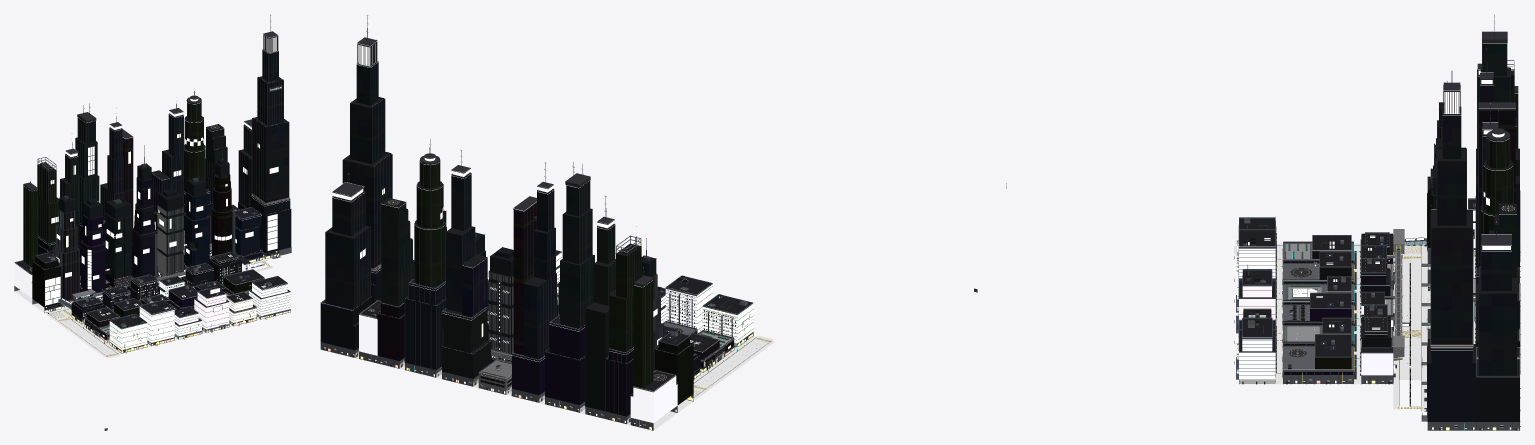
The model's file is world-high-corpo.glb.
The picture shows the model from 3 angles, left to right: view 1: azimuth 30°, elevation 25°; view 2: azimuth 150°, elevation 25°; view 3: azimuth 270°, elevation 25°; orthographic projection. The views are drawn at different scales.
Parts seen in each view (by area): view 1: corpo_corporate, corpo_trim, corpo_facade, corpo_roof, corpo_trim_detail, corpo_billboard, corpo_crown_glass, corpo_castconcrete, corpo_board_frame, corpo_glow, corpo_asphalt, corpo_sidewalk (+6 smaller); view 2: corpo_corporate, corpo_trim, corpo_trim_detail, corpo_facade, corpo_roof, corpo_castconcrete, corpo_glow, corpo_sidewalk, corpo_crown_glass, corpo_asphalt, corpo_glass_dark_detail; view 3: corpo_corporate, corpo_trim, corpo_roof, corpo_facade, corpo_asphalt, corpo_trim_detail, corpo_concrete, corpo_glow, corpo_sidewalk, corpo_castconcrete, corpo_glass_dark_detail, corpo_steel (+2 smaller).
Boxes of the visible parts, <box> form: corpo_corporate: <box>23,49,291,339</box>; corpo_trim: <box>14,31,291,353</box>; corpo_facade: <box>14,263,290,350</box>; corpo_roof: <box>16,49,290,328</box>; corpo_trim_detail: <box>14,37,291,356</box>; corpo_billboard: <box>45,137,278,352</box>; corpo_crown_glass: <box>59,158,229,219</box>; corpo_castconcrete: <box>72,205,263,333</box>; corpo_board_frame: <box>45,133,286,352</box>; corpo_glow: <box>24,34,289,332</box>; corpo_asphalt: <box>49,309,119,357</box>; corpo_sidewalk: <box>15,257,280,357</box>; corpo_corporate: <box>320,62,733,416</box>; corpo_trim: <box>320,37,770,430</box>; corpo_trim_detail: <box>320,44,771,430</box>; corpo_facade: <box>359,252,753,422</box>; corpo_roof: <box>322,61,751,396</box>; corpo_castconcrete: <box>487,271,724,361</box>; corpo_glow: <box>324,14,735,425</box>; corpo_sidewalk: <box>320,336,774,430</box>; corpo_crown_glass: <box>443,210,656,276</box>; corpo_asphalt: <box>689,335,773,397</box>; corpo_glass_dark_detail: <box>355,97,733,395</box>; corpo_corporate: <box>1284,43,1519,421</box>; corpo_trim: <box>1236,31,1520,430</box>; corpo_roof: <box>1239,68,1519,376</box>; corpo_facade: <box>1239,210,1519,379</box>; corpo_asphalt: <box>1234,246,1421,379</box>; corpo_trim_detail: <box>1239,31,1519,430</box>; corpo_concrete: <box>1239,251,1475,384</box>; corpo_glow: <box>1239,14,1519,427</box>; corpo_sidewalk: <box>1239,243,1520,430</box>; corpo_castconcrete: <box>1384,229,1473,405</box>; corpo_glass_dark_detail: <box>1283,126,1519,369</box>; corpo_steel: <box>1247,60,1514,370</box>.
Bounding box in the file's own units: 472 × 330 × 420.
